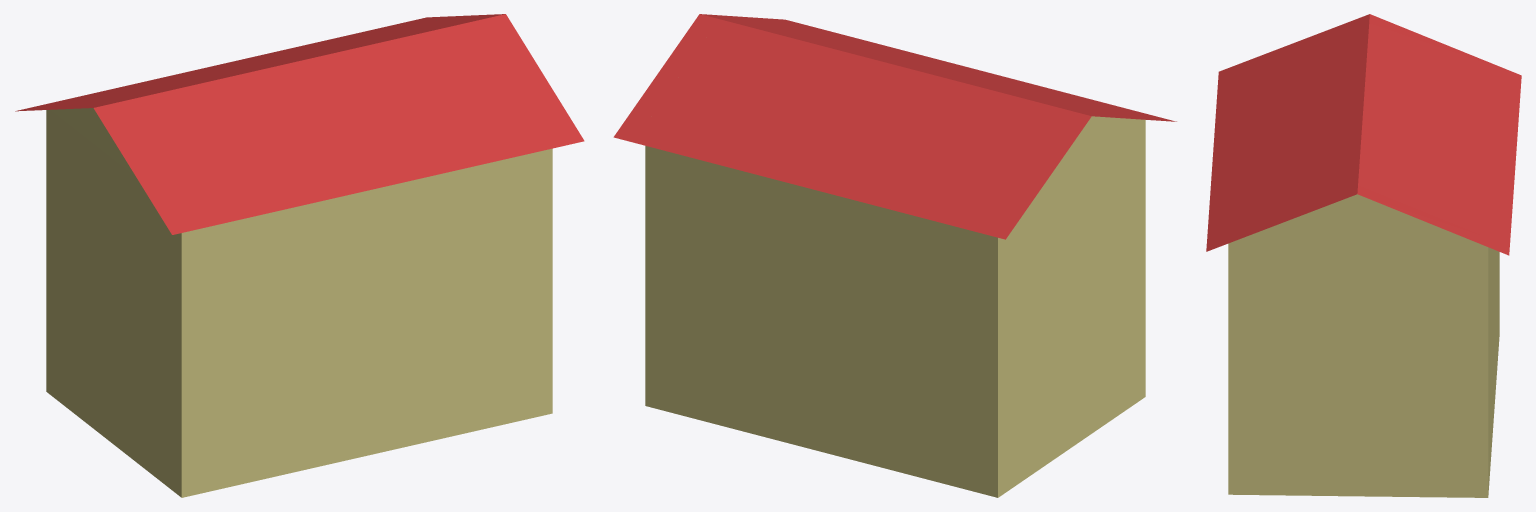
3 views of the same model, side by side, from view 1: azimuth 30°, elevation 25°; view 2: azimuth 150°, elevation 25°; view 3: azimuth 270°, elevation 25° (orthographic). The views are drawn at different scales.
Bounding box in the file's own units: 15.14 × 10.97 × 11.94.
